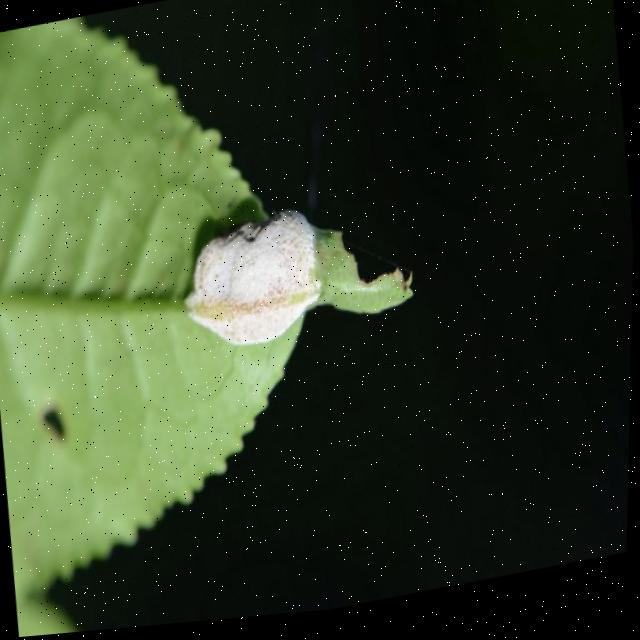Tea cake: (189, 204, 335, 381)
